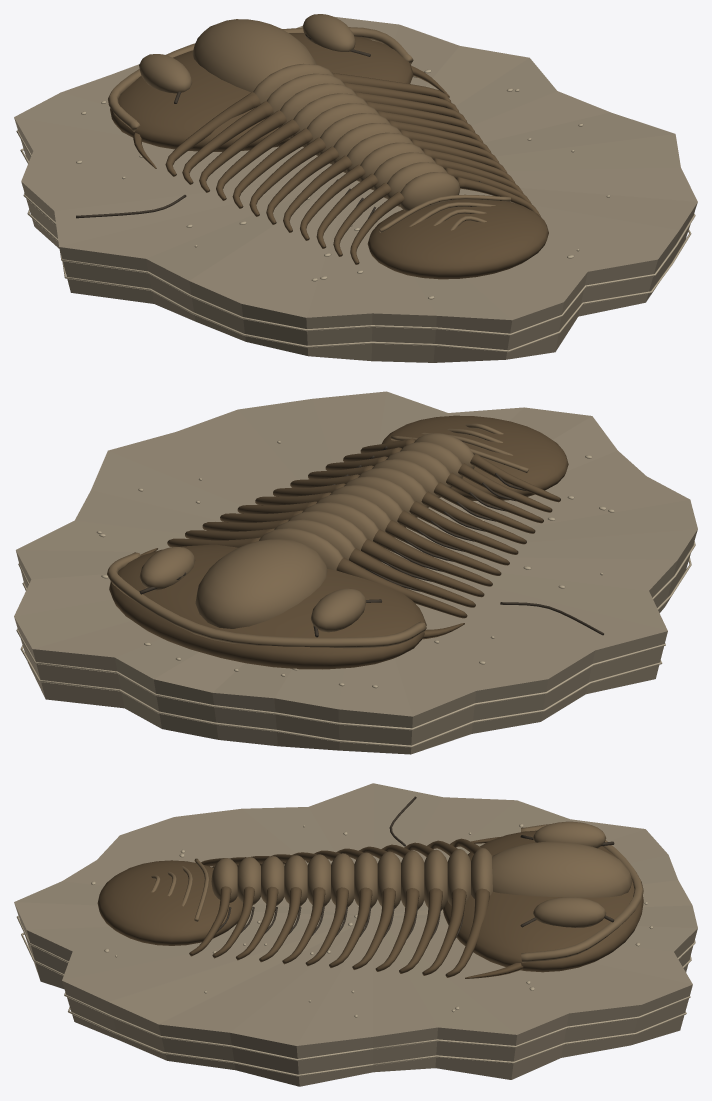
File: TrilobiteFossil.fbx
3 views of the same model, one above another, from view 1: azimuth 30°, elevation 25°; view 2: azimuth 150°, elevation 25°; view 3: azimuth 270°, elevation 25° (orthographic). The views are drawn at different scales.
Parts seen in each view (by area): view 1: Material group TrilobiteFossil_Siltstone, Material group TrilobiteFossil_FossilCuticle, Material group TrilobiteFossil_RidgeHighlights, Material group TrilobiteFossil_MatrixGrain, Material group TrilobiteFossil_IncisedSutures; view 2: Material group TrilobiteFossil_Siltstone, Material group TrilobiteFossil_FossilCuticle, Material group TrilobiteFossil_RidgeHighlights, Material group TrilobiteFossil_MatrixGrain, Material group TrilobiteFossil_IncisedSutures; view 3: Material group TrilobiteFossil_Siltstone, Material group TrilobiteFossil_FossilCuticle, Material group TrilobiteFossil_RidgeHighlights, Material group TrilobiteFossil_MatrixGrain, Material group TrilobiteFossil_IncisedSutures.
Part boxes in pixels (<box>): Material group TrilobiteFossil_Siltstone: <box>14,16,697,362</box>; Material group TrilobiteFossil_FossilCuticle: <box>110,33,548,279</box>; Material group TrilobiteFossil_RidgeHighlights: <box>108,14,510,232</box>; Material group TrilobiteFossil_MatrixGrain: <box>16,69,695,352</box>; Material group TrilobiteFossil_IncisedSutures: <box>76,34,481,218</box>; Material group TrilobiteFossil_Siltstone: <box>14,391,697,754</box>; Material group TrilobiteFossil_FossilCuticle: <box>109,415,568,669</box>; Material group TrilobiteFossil_RidgeHighlights: <box>107,423,528,648</box>; Material group TrilobiteFossil_MatrixGrain: <box>16,440,695,747</box>; Material group TrilobiteFossil_IncisedSutures: <box>139,446,603,637</box>; Material group TrilobiteFossil_Siltstone: <box>14,783,697,1086</box>; Material group TrilobiteFossil_FossilCuticle: <box>97,830,643,978</box>; Material group TrilobiteFossil_RidgeHighlights: <box>151,821,643,962</box>; Material group TrilobiteFossil_MatrixGrain: <box>16,823,695,1076</box>; Material group TrilobiteFossil_IncisedSutures: <box>217,796,614,939</box>.
Bounding box in the file's own units: 0.9168 × 0.1948 × 1.
